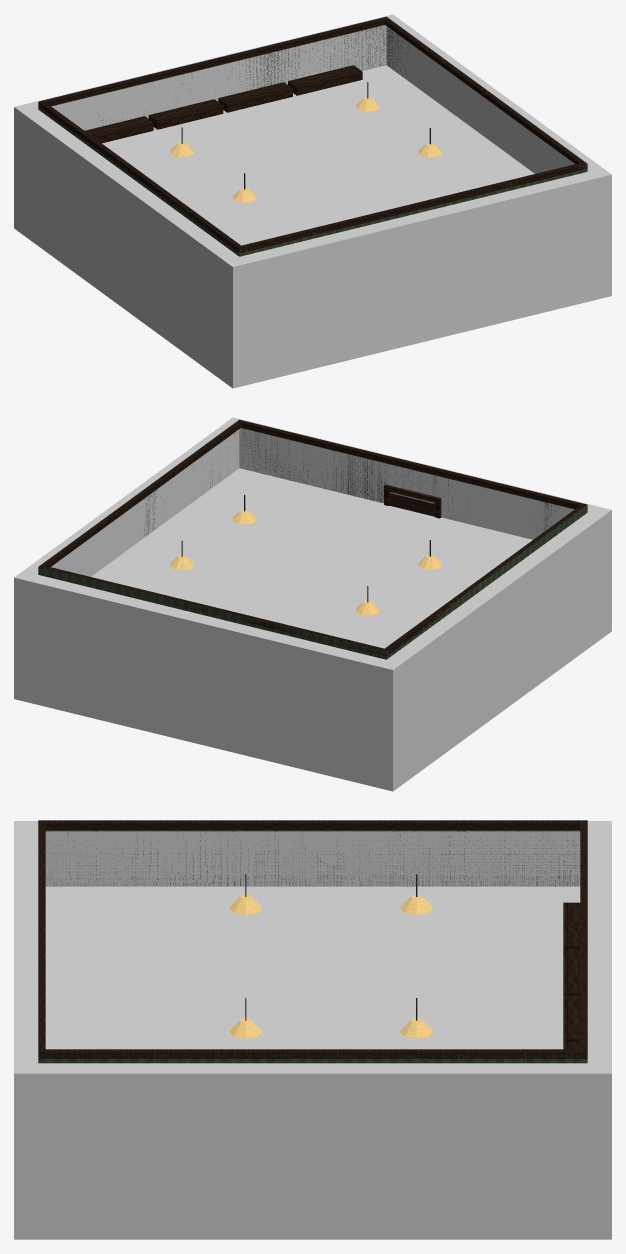
File: unity_wing.glb
The picture shows the model from 3 angles, top to bottom: view 1: azimuth 30°, elevation 25°; view 2: azimuth 150°, elevation 25°; view 3: azimuth 270°, elevation 25°; orthographic projection. The views are drawn at different scales.
Visible parts, largest first — view 1: COL_Wall_S, COL_Wall_W, TRG_CAM_2, TRG_CAM_1, COL_Wall_N, COL_Wall_E, Room_Shell, Molding_S, Molding_N, Molding_W, Molding_E, Shelf_1 (+3 smaller); view 2: COL_Wall_N, COL_Wall_W, TRG_CAM_2, TRG_CAM_1, COL_Wall_S, COL_Wall_E, Room_Shell, Molding_S, Molding_E, Molding_N, Molding_W, DOOR_hall; view 3: COL_Wall_E, TRG_CAM_1, COL_Wall_W, TRG_CAM_2, COL_Wall_N, COL_Wall_S, Room_Shell, Molding_W, Molding_E, Molding_N, Molding_S, Shelf_1 (+2 smaller).
Boxes of the visible parts, x1,y1,x2,y2 form: COL_Wall_S: [224, 168, 611, 388]; COL_Wall_W: [23, 109, 238, 381]; TRG_CAM_2: [214, 65, 534, 214]; TRG_CAM_1: [102, 110, 368, 245]; COL_Wall_N: [14, 14, 401, 234]; COL_Wall_E: [386, 21, 602, 173]; Room_Shell: [38, 24, 587, 256]; Molding_S: [236, 162, 587, 252]; Molding_N: [38, 16, 388, 107]; Molding_W: [41, 102, 240, 251]; Molding_E: [384, 18, 584, 163]; Shelf_1: [148, 99, 223, 129]; COL_Wall_N: [14, 571, 401, 791]; COL_Wall_W: [387, 512, 602, 784]; TRG_CAM_2: [91, 468, 417, 621]; TRG_CAM_1: [258, 509, 532, 648]; COL_Wall_S: [224, 417, 611, 637]; COL_Wall_E: [23, 424, 239, 576]; Room_Shell: [38, 427, 587, 659]; Molding_S: [237, 419, 587, 508]; Molding_E: [41, 421, 241, 566]; Molding_N: [38, 565, 389, 656]; Molding_W: [385, 505, 584, 654]; DOOR_hall: [389, 493, 434, 516]; COL_Wall_E: [38, 1063, 587, 1239]; TRG_CAM_1: [45, 886, 580, 1007]; COL_Wall_W: [45, 831, 580, 886]; TRG_CAM_2: [45, 997, 563, 1049]; COL_Wall_N: [587, 821, 611, 1239]; COL_Wall_S: [14, 821, 38, 1239]; Room_Shell: [38, 830, 587, 1063]; Molding_W: [45, 820, 580, 829]; Molding_E: [45, 1049, 580, 1058]; Molding_N: [580, 820, 587, 1058]; Molding_S: [38, 820, 45, 1058]; Shelf_1: [563, 949, 580, 995].
Size of the model in its own units: 9.8 by 3.2 by 9.8.
17 materials, 17 textured.
